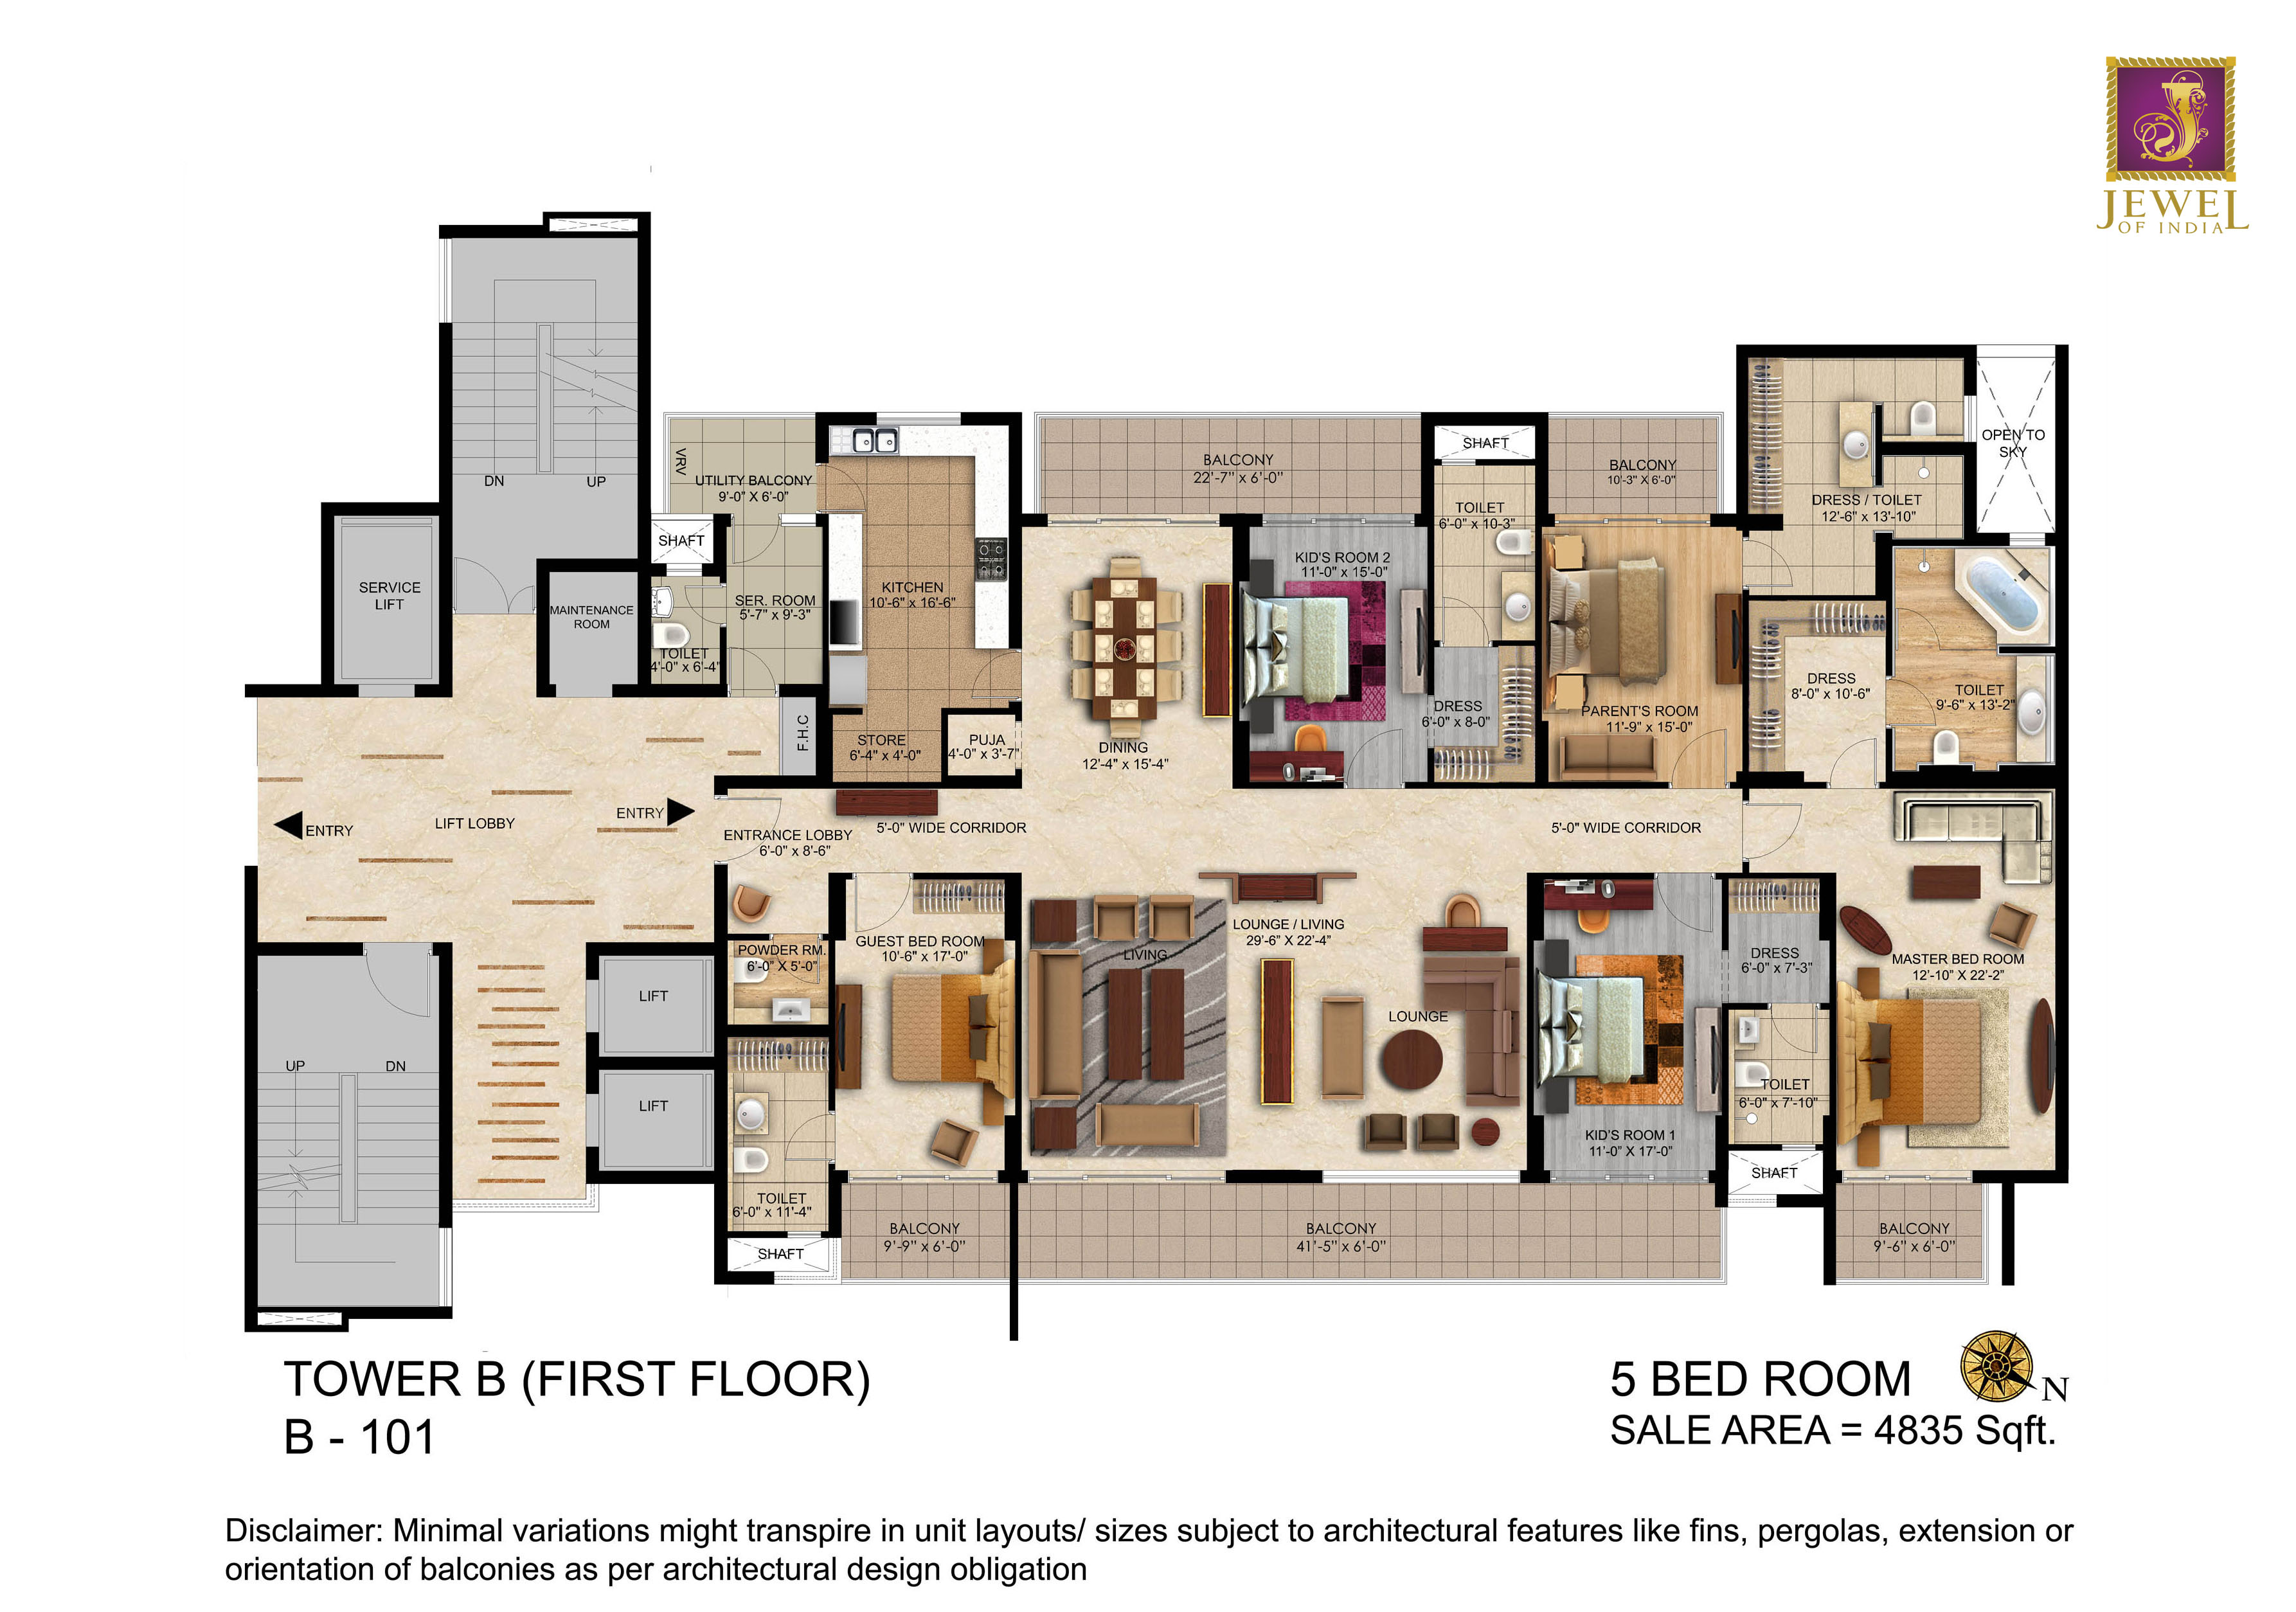door: (363, 954, 434, 1022), (454, 551, 536, 607), (1741, 801, 1806, 860), (1343, 726, 1406, 785), (851, 871, 911, 932), (1666, 729, 1729, 787), (1656, 874, 1715, 933), (1883, 677, 1940, 729), (965, 647, 1019, 701), (729, 516, 780, 570), (728, 640, 778, 694), (1828, 734, 1879, 787), (820, 464, 871, 513), (682, 584, 721, 625)
